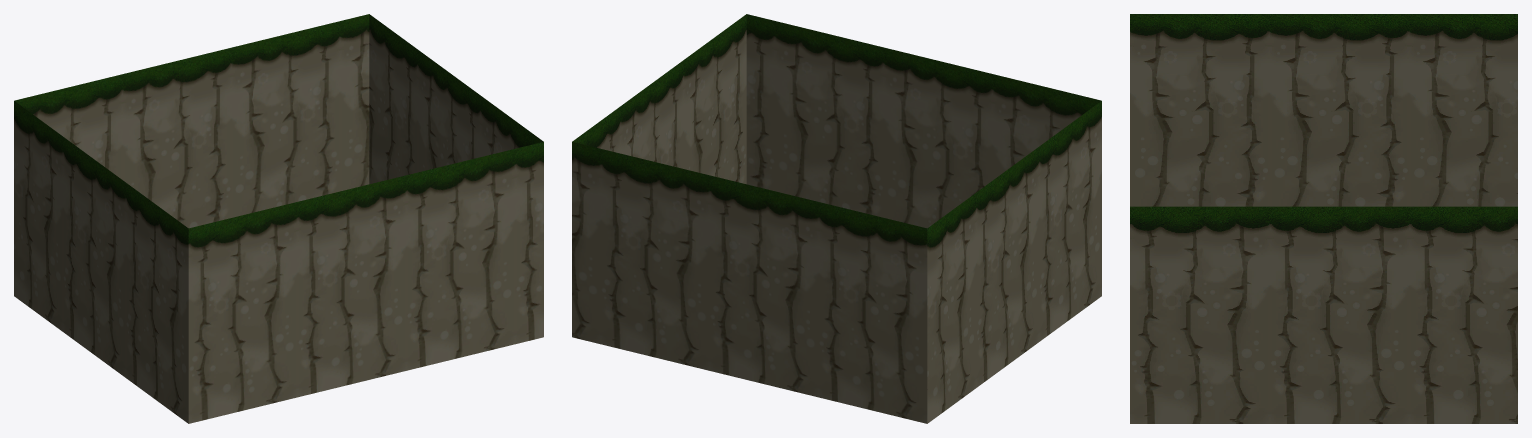
3 views of the same model, side by side, from view 1: azimuth 30°, elevation 25°; view 2: azimuth 150°, elevation 25°; view 3: azimuth 270°, elevation 25° (orthographic). The views are drawn at different scales.
Parts seen in each view (by area): view 1: Untitled-SKP--Material4.005; view 2: Untitled-SKP--Material4.005; view 3: Untitled-SKP--Material4.005.
Boxes of the visible parts, <box> form: Untitled-SKP--Material4.005: <box>14,14,543,423</box>; Untitled-SKP--Material4.005: <box>572,14,1101,423</box>; Untitled-SKP--Material4.005: <box>1130,14,1517,423</box>.
Bounding box in the file's own units: 23500 × 12361 × 20000.
3 materials, 3 textured.
